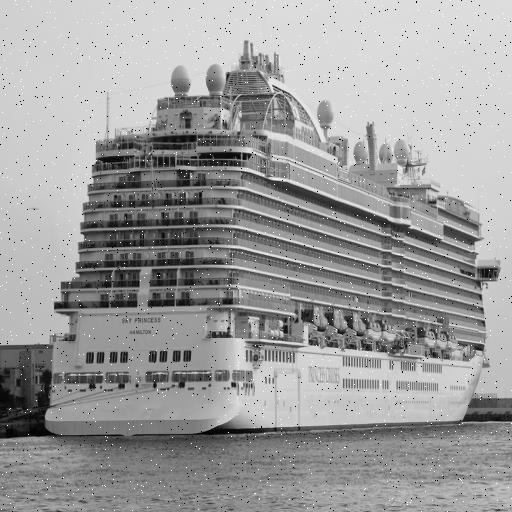cruises: (38, 42, 502, 441)
